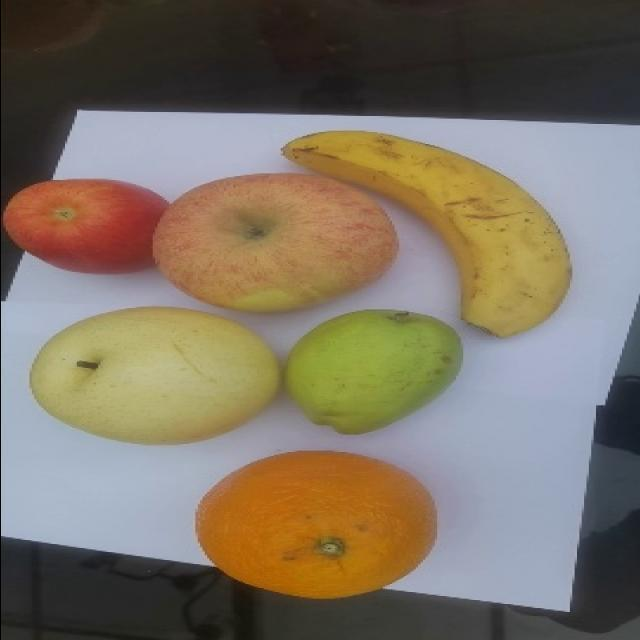Apple: (151, 172, 399, 313), (2, 177, 170, 274)
Banana: (280, 129, 572, 338)
Orange: (194, 449, 438, 599)
